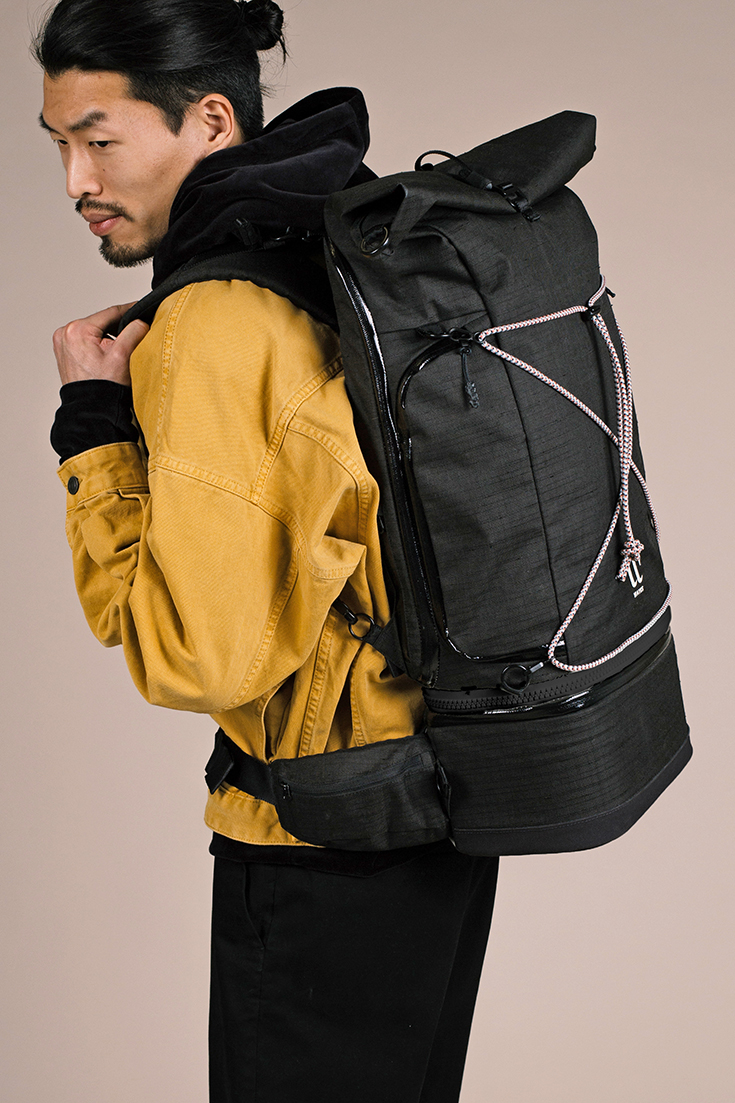backpack: (317, 104, 700, 861)
